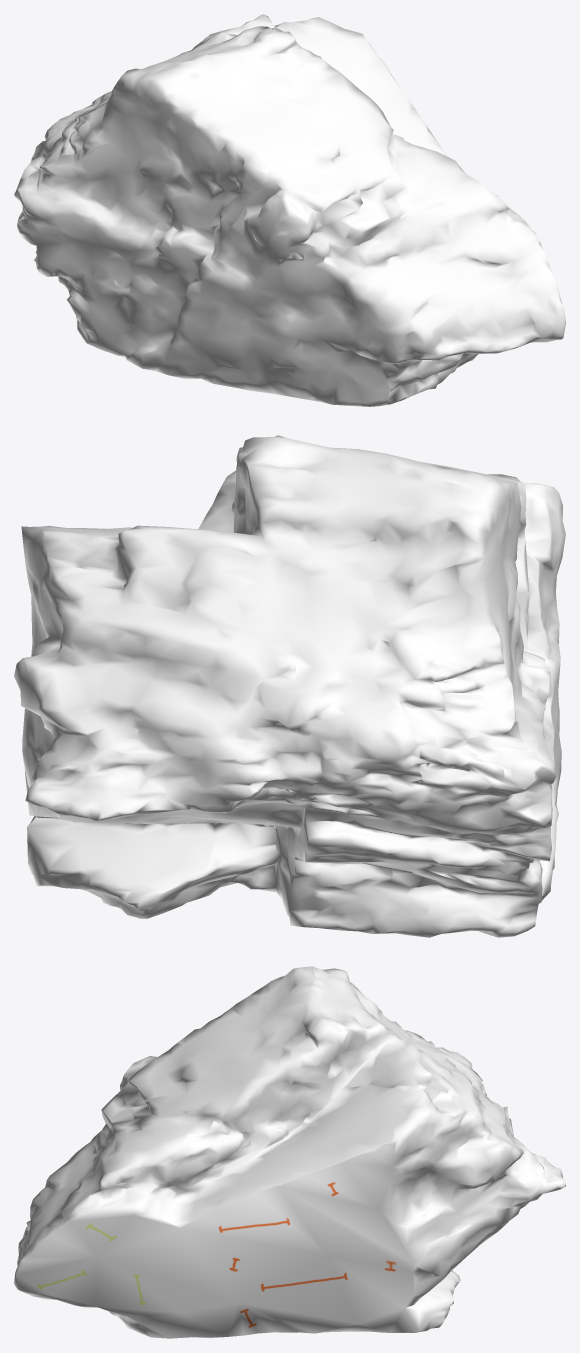
The model's file is Thickness.glb.
3 views of the same model, one above another, from view 1: azimuth 30°, elevation 25°; view 2: azimuth 150°, elevation 25°; view 3: azimuth 270°, elevation 25° (orthographic). The views are drawn at different scales.
Parts seen in each view (by area): view 1: Metashape to blender new atlas.001; view 2: Metashape to blender new atlas.001; view 3: Metashape to blender new atlas.001.
Boxes of the visible parts, <box> form: Metashape to blender new atlas.001: <box>14,14,565,406</box>; Metashape to blender new atlas.001: <box>14,435,565,937</box>; Metashape to blender new atlas.001: <box>14,966,565,1338</box>.
Bounding box in the file's own units: 0.1263 × 0.0964 × 0.1803.
Materials: 1 (1 with a texture image).
